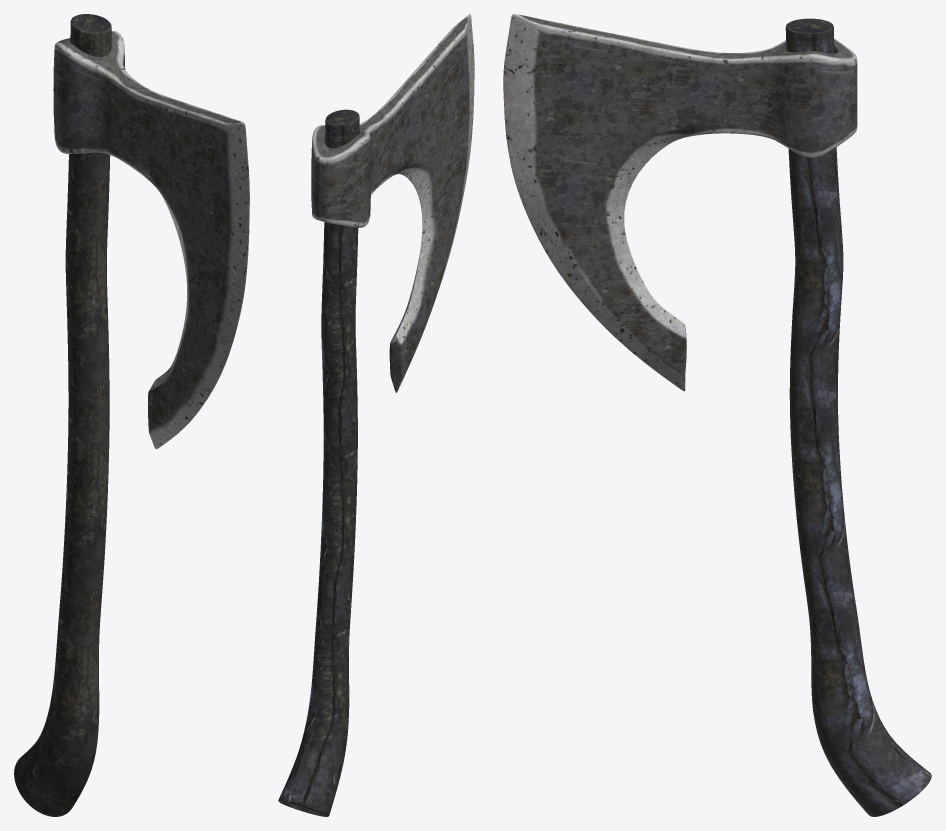
3 renders of one model, left to right at view 1: azimuth 30°, elevation 25°; view 2: azimuth 150°, elevation 25°; view 3: azimuth 270°, elevation 25°, orthographic. The views are drawn at different scales.
Visible parts, largest first — view 1: Viking Axe.001; view 2: Viking Axe.001; view 3: Viking Axe.001.
Boxes of the visible parts, x1,y1,x2,y2 form: Viking Axe.001: [14, 14, 249, 816]; Viking Axe.001: [278, 14, 474, 816]; Viking Axe.001: [503, 14, 931, 816].
Bounding box in the file's own units: 0.0637 × 0.8476 × 0.4116.
Materials: 2 (2 with a texture image).
